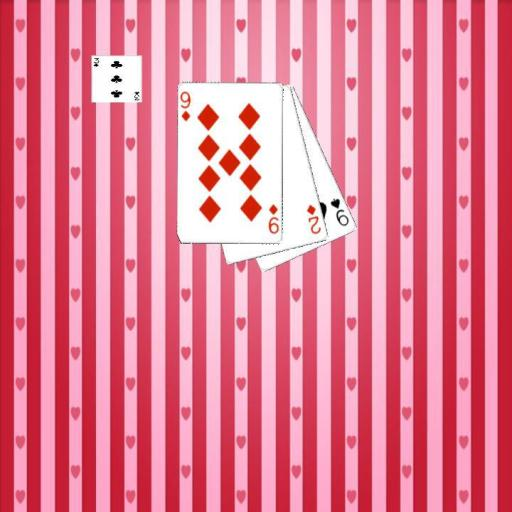2D: (304, 202, 323, 236)
9D: (178, 88, 192, 123), (266, 202, 279, 236)
9S: (327, 195, 351, 227)
